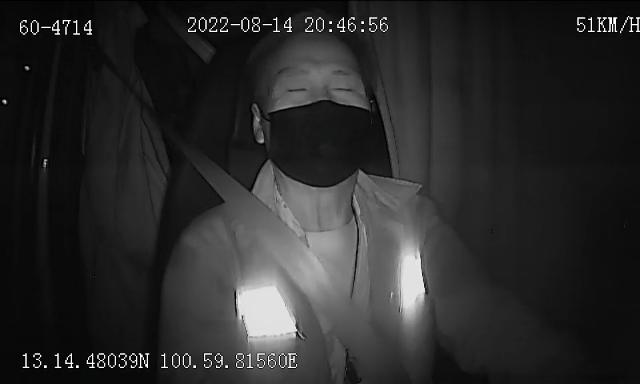Seatbelt: (135, 95, 383, 384)
